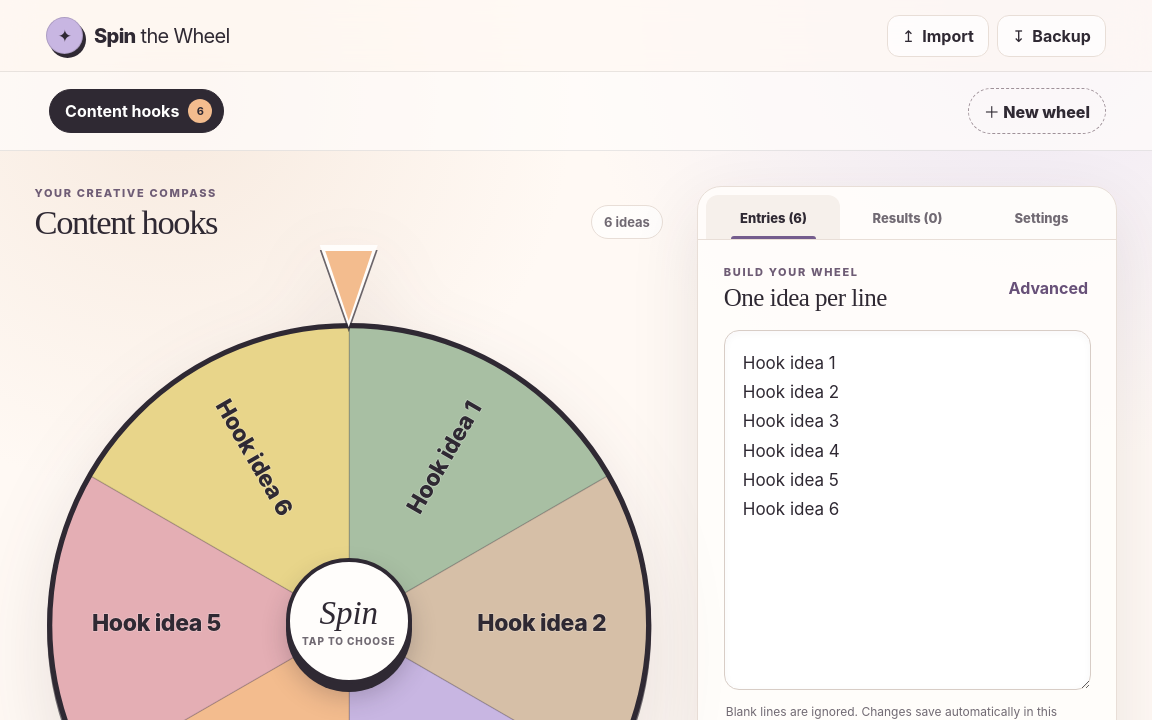
Scenario: App › spins, records a result, and highlights the winning wedge without a dialog
This screenshot has width=1152, height=720.
Click the button with aria-label "Spin the wheel". click: (349, 621)
box: x1=286 y1=558 x2=412 y2=684
Wait 5100 ms
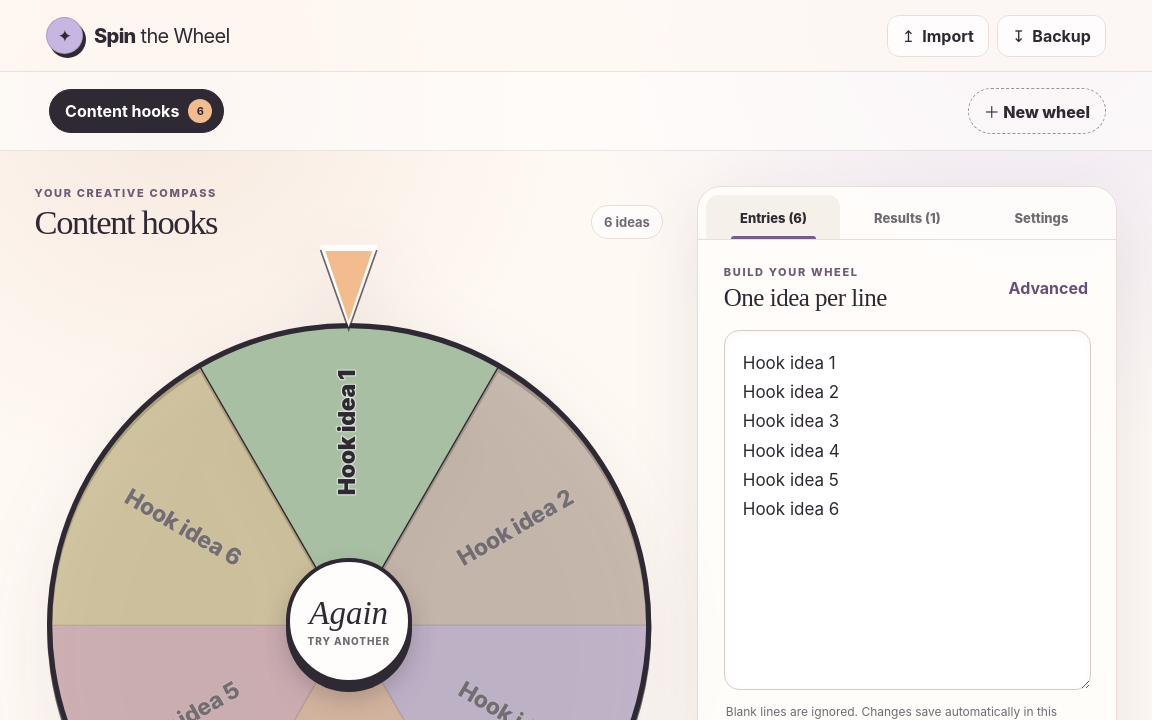
Now the button with aria-label "Spin again" is shown, box x1=286 y1=558 x2=412 y2=684
Click the tab "Results (1)". click: (907, 216)
box: x1=840 y1=194 x2=974 y2=238
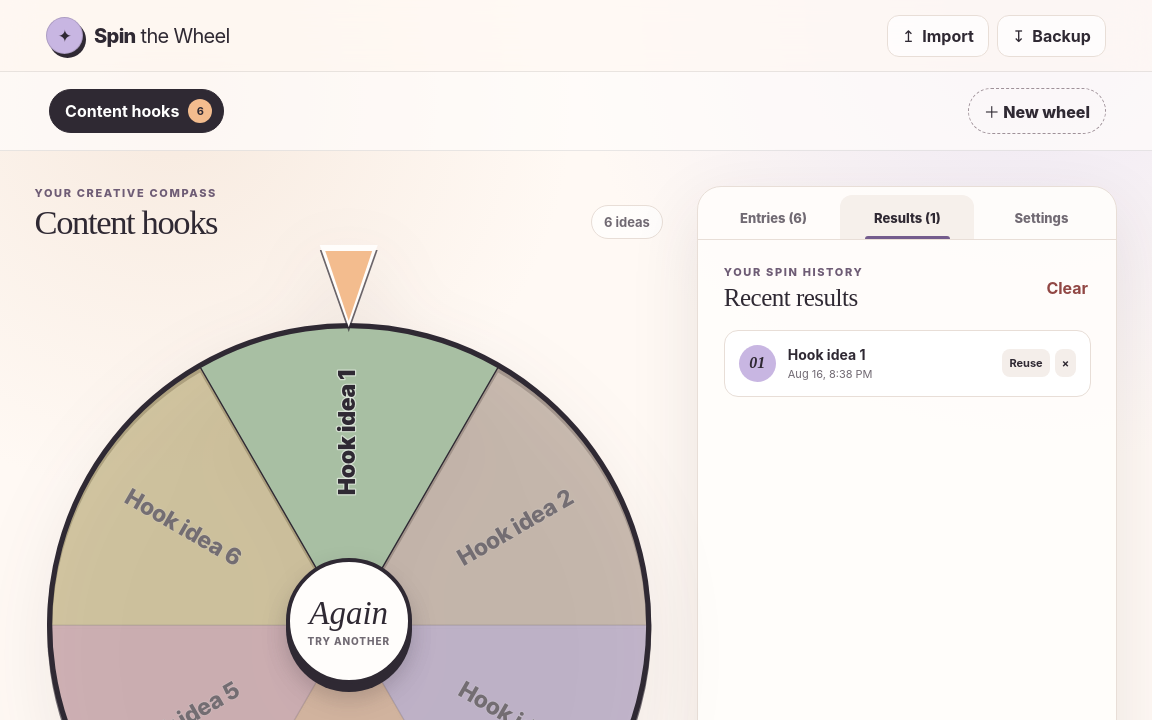
Now the text "Hook idea 1" is shown, box x1=788 y1=346 x2=866 y2=363
